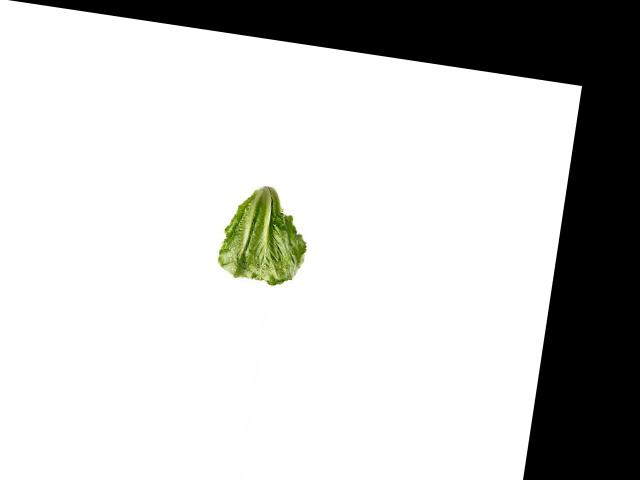lettuce: (218, 176, 318, 291)
